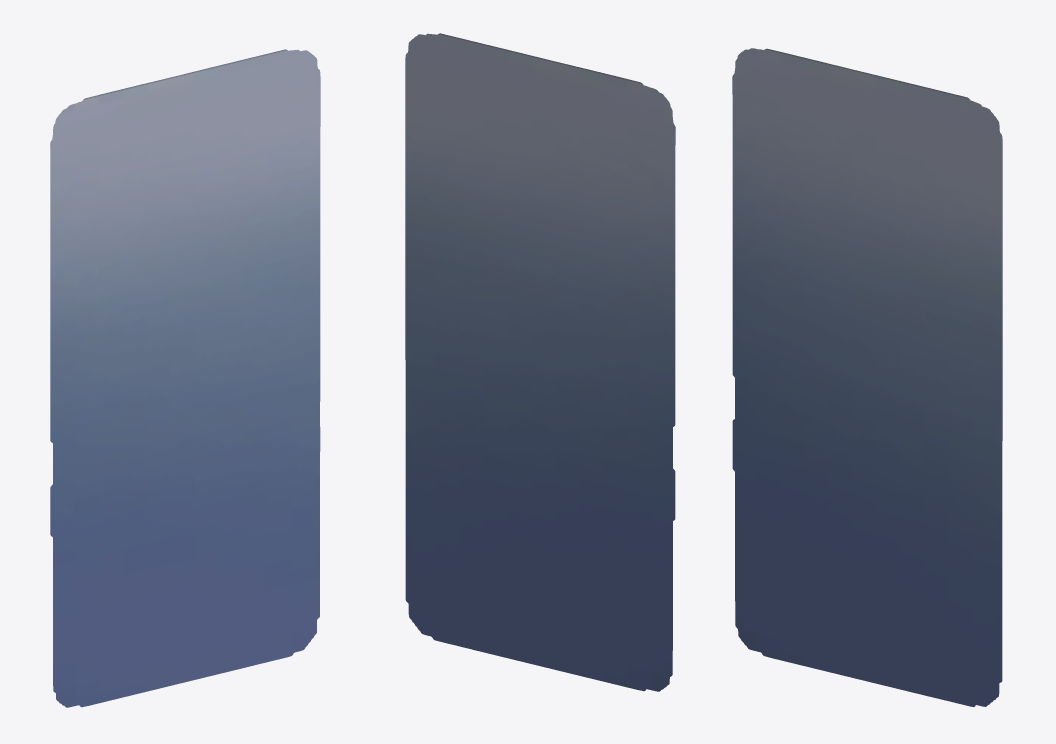
Rendered from Player_Maid_Xueyi_LookAtPhone_00.fbx.
The picture shows the model from 3 angles, left to right: view 1: azimuth 30°, elevation 25°; view 2: azimuth 150°, elevation 25°; view 3: azimuth 330°, elevation 25°; orthographic projection.
Parts seen in each view (by area): view 1: LookAtPhone_00_Phone_Model; view 2: LookAtPhone_00_Phone_Model; view 3: LookAtPhone_00_Phone_Model.
Boxes of the visible parts, x1,y1,x2,y2 form: LookAtPhone_00_Phone_Model: [50, 49, 320, 707]; LookAtPhone_00_Phone_Model: [405, 33, 675, 691]; LookAtPhone_00_Phone_Model: [732, 48, 1002, 706].
Bounding box in the file's own units: 0.066 × 0.1328 × 0.0081.
1 material, 1 textured.
